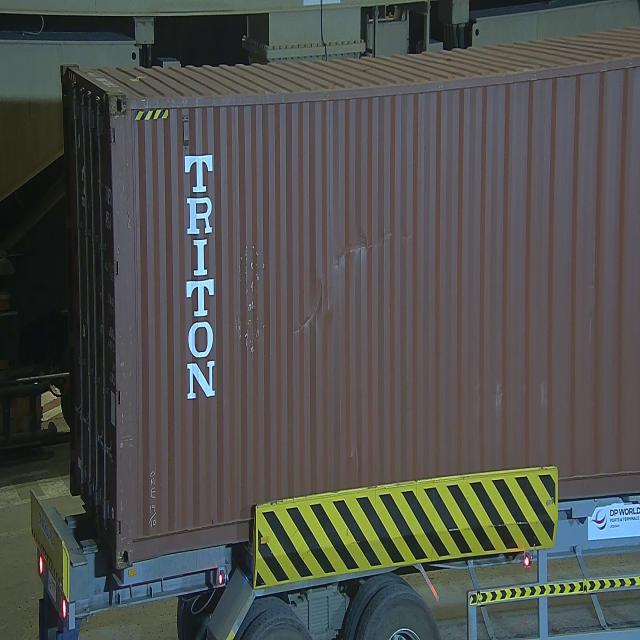dent: (294, 224, 380, 343)
